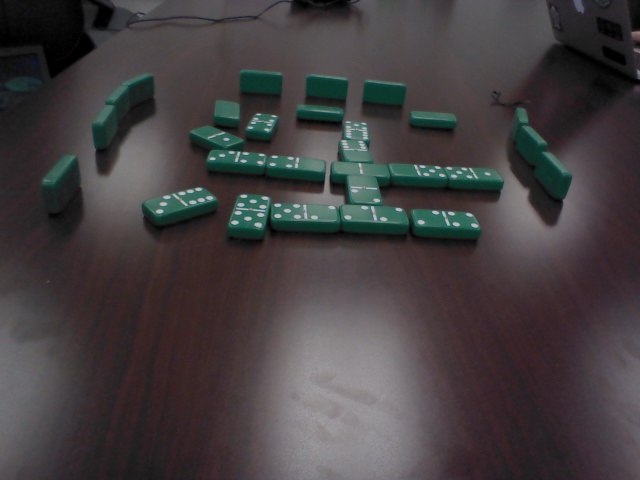A: (297, 102, 346, 121), (210, 97, 242, 126), (412, 111, 457, 129)
B: (145, 186, 219, 223), (410, 207, 483, 237), (270, 199, 340, 229), (343, 204, 408, 236), (229, 192, 270, 235), (389, 161, 448, 189), (209, 144, 265, 172), (332, 159, 394, 184), (186, 123, 243, 149), (450, 164, 502, 192), (267, 155, 324, 180), (347, 172, 382, 202), (342, 137, 373, 163), (248, 113, 276, 136)
C: (42, 153, 82, 213), (91, 107, 116, 149), (125, 74, 159, 103), (105, 86, 132, 121)
D: (540, 150, 570, 201), (518, 124, 544, 164), (513, 106, 528, 135)
F: (365, 78, 405, 109), (240, 68, 283, 96), (306, 73, 346, 101)
